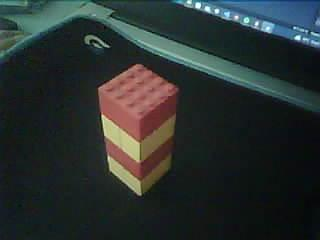lego: (97, 63, 179, 195)
